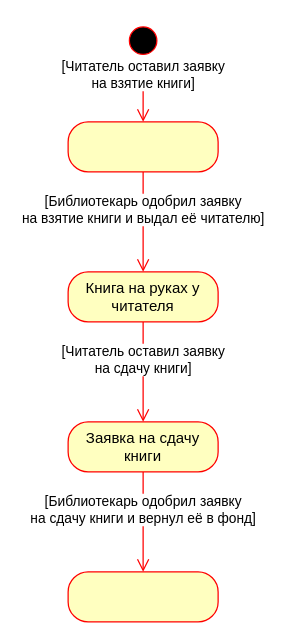
The diagram is 285 pixels wide and 644 high, and some of its shapes have lost their labels. The shapes that lost their labels are listed below. From the top down, each one's centre as x and y in pixels, then its label:
[142,146]: Заявка на взятие книги
[142,596]: Книга возвращена
